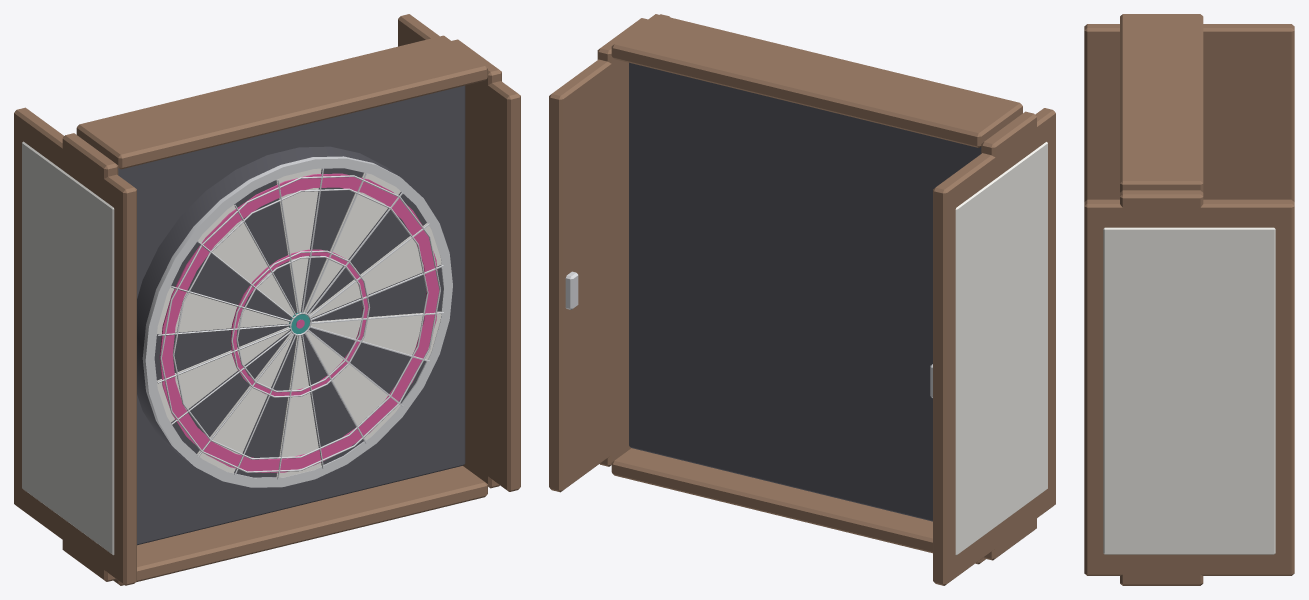
Rendered from bowling-alley-and-pool-hall-dartboard-cabinet-open-fa1b41a0__33862.glb.
3 views of the same model, side by side, from view 1: azimuth 30°, elevation 25°; view 2: azimuth 150°, elevation 25°; view 3: azimuth 270°, elevation 25° (orthographic). The views are drawn at different scales.
Visible parts, largest first — view 1: dartboard-cabinet-open, cabinet-door-left (×2), cabinet-door-right; view 2: dartboard-cabinet-open, cabinet-door-left (×2), cabinet-door-right; view 3: cabinet-door-right (×2), cabinet-door-left, dartboard-cabinet-open.
Boxes of the visible parts, x1,y1,x2,y2 form: dartboard-cabinet-open: (62, 35, 501, 585); cabinet-door-left (×2): (14, 107, 136, 585); cabinet-door-right: (398, 14, 520, 491); dartboard-cabinet-open: (597, 14, 1036, 564); cabinet-door-left (×2): (933, 108, 1055, 585); cabinet-door-right: (549, 14, 670, 492); cabinet-door-right (×2): (1084, 199, 1294, 575); cabinet-door-left: (1084, 24, 1294, 201); dartboard-cabinet-open: (1120, 14, 1203, 585).
Bounding box in the file's own units: 0.624 × 0.642 × 0.302.
